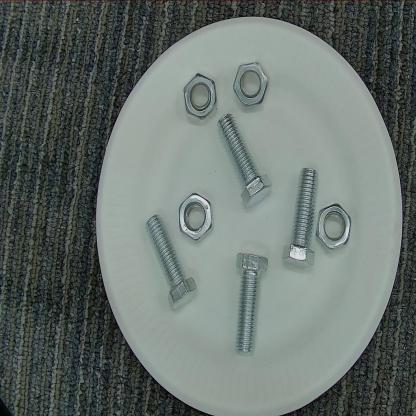FOD: (142, 211, 199, 316), (218, 114, 274, 211), (282, 161, 324, 276), (232, 248, 271, 360), (172, 192, 218, 244), (316, 196, 355, 254), (233, 60, 270, 111), (182, 71, 219, 120)
